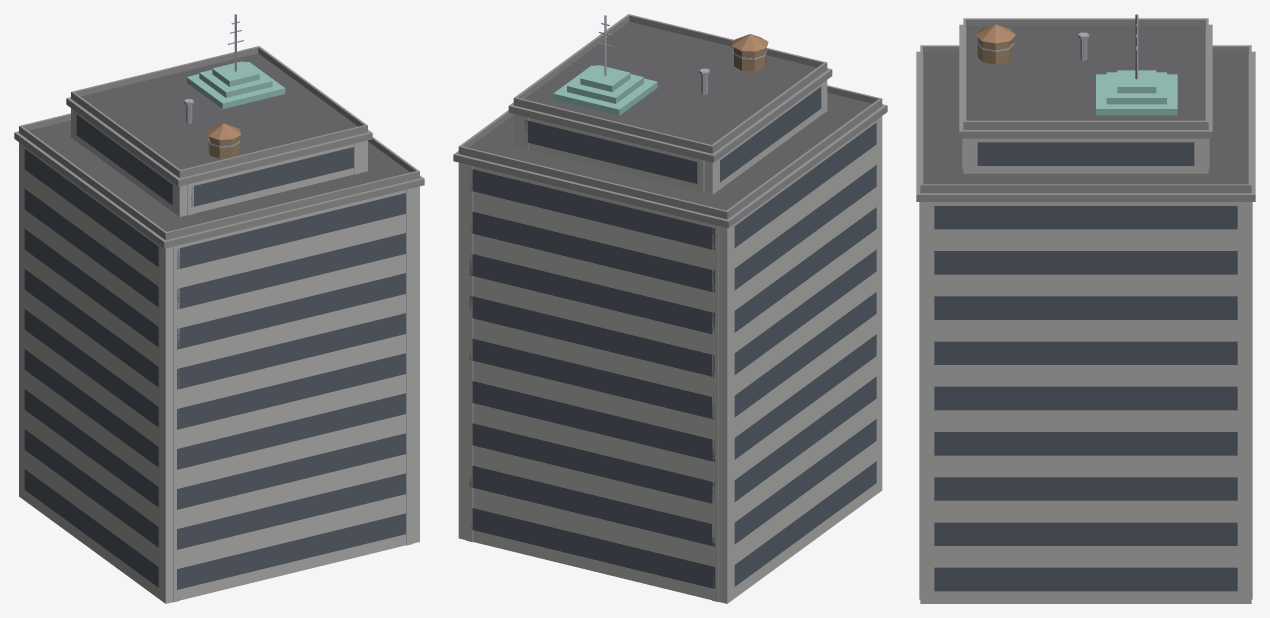
The model's file is bld_deco_02.glb.
3 renders of one model, left to right at view 1: azimuth 30°, elevation 25°; view 2: azimuth 150°, elevation 25°; view 3: azimuth 270°, elevation 25°, orthographic. The views are drawn at different scales.
Visible parts, largest first — view 1: bld_deco_02; view 2: bld_deco_02; view 3: bld_deco_02.
Part boxes in pixels (<box>): bld_deco_02: <box>14,14,424,603</box>; bld_deco_02: <box>453,14,887,603</box>; bld_deco_02: <box>916,14,1255,603</box>.
Size of the model in its own units: 21.5 by 37.79 by 21.5.
